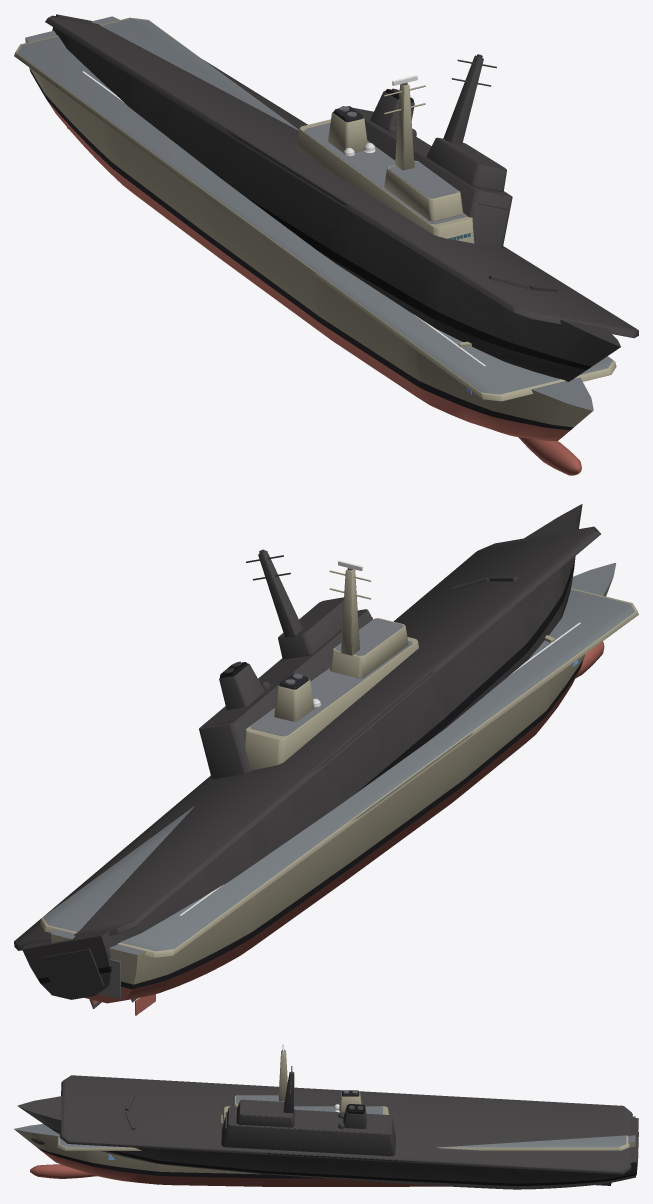
The model's file is landingShip__san_giorgio_class.glb.
3 views of the same model, one above another, from view 1: azimuth 30°, elevation 25°; view 2: azimuth 150°, elevation 25°; view 3: azimuth 270°, elevation 25° (orthographic). The views are drawn at different scales.
Parts seen in each view (by area): view 1: Hull_Mesh, Wreck; view 2: Wreck, Hull_Mesh; view 3: Wreck, Hull_Mesh.
Boxes of the visible parts, bbox=[...] form: Hull_Mesh: bbox=[14, 16, 616, 475]; Wreck: bbox=[45, 14, 638, 381]; Wreck: bbox=[14, 504, 600, 1008]; Hull_Mesh: bbox=[40, 563, 638, 1015]; Wreck: bbox=[17, 1066, 638, 1189]; Hull_Mesh: bbox=[14, 1050, 635, 1186].
Size of what is drawn, in the model's own units: 31.31 by 35.32 by 140.
